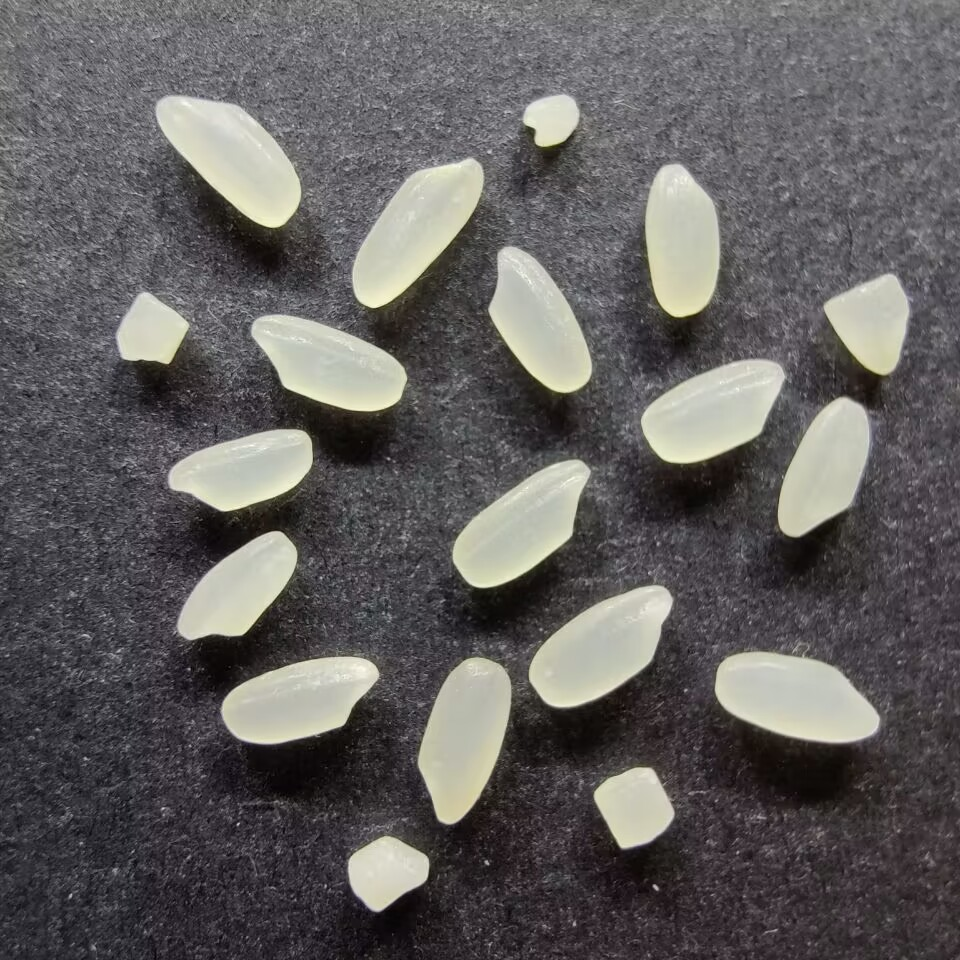broken: (821, 272, 910, 376), (591, 764, 680, 851), (346, 832, 431, 913), (114, 287, 188, 365), (519, 92, 583, 150)
rice: (349, 154, 485, 309), (151, 92, 303, 230), (526, 584, 676, 709), (450, 456, 590, 589), (414, 657, 513, 826), (485, 244, 593, 394), (248, 313, 409, 413), (712, 650, 882, 744), (639, 357, 786, 464), (219, 653, 379, 745), (174, 528, 298, 643), (775, 395, 872, 538), (165, 426, 314, 513), (642, 162, 722, 320)
